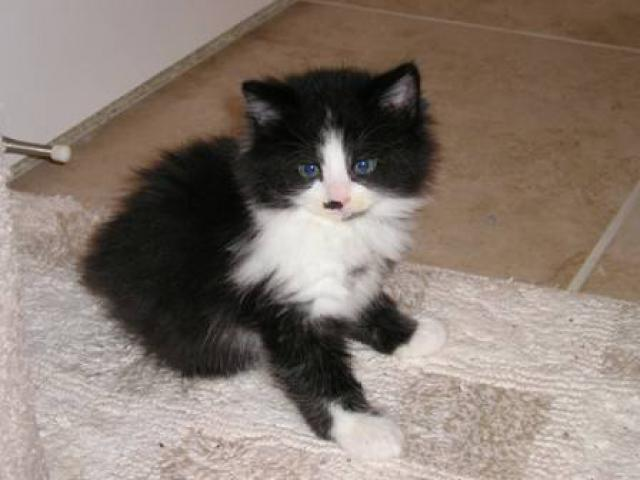cat: (78, 53, 429, 448)
